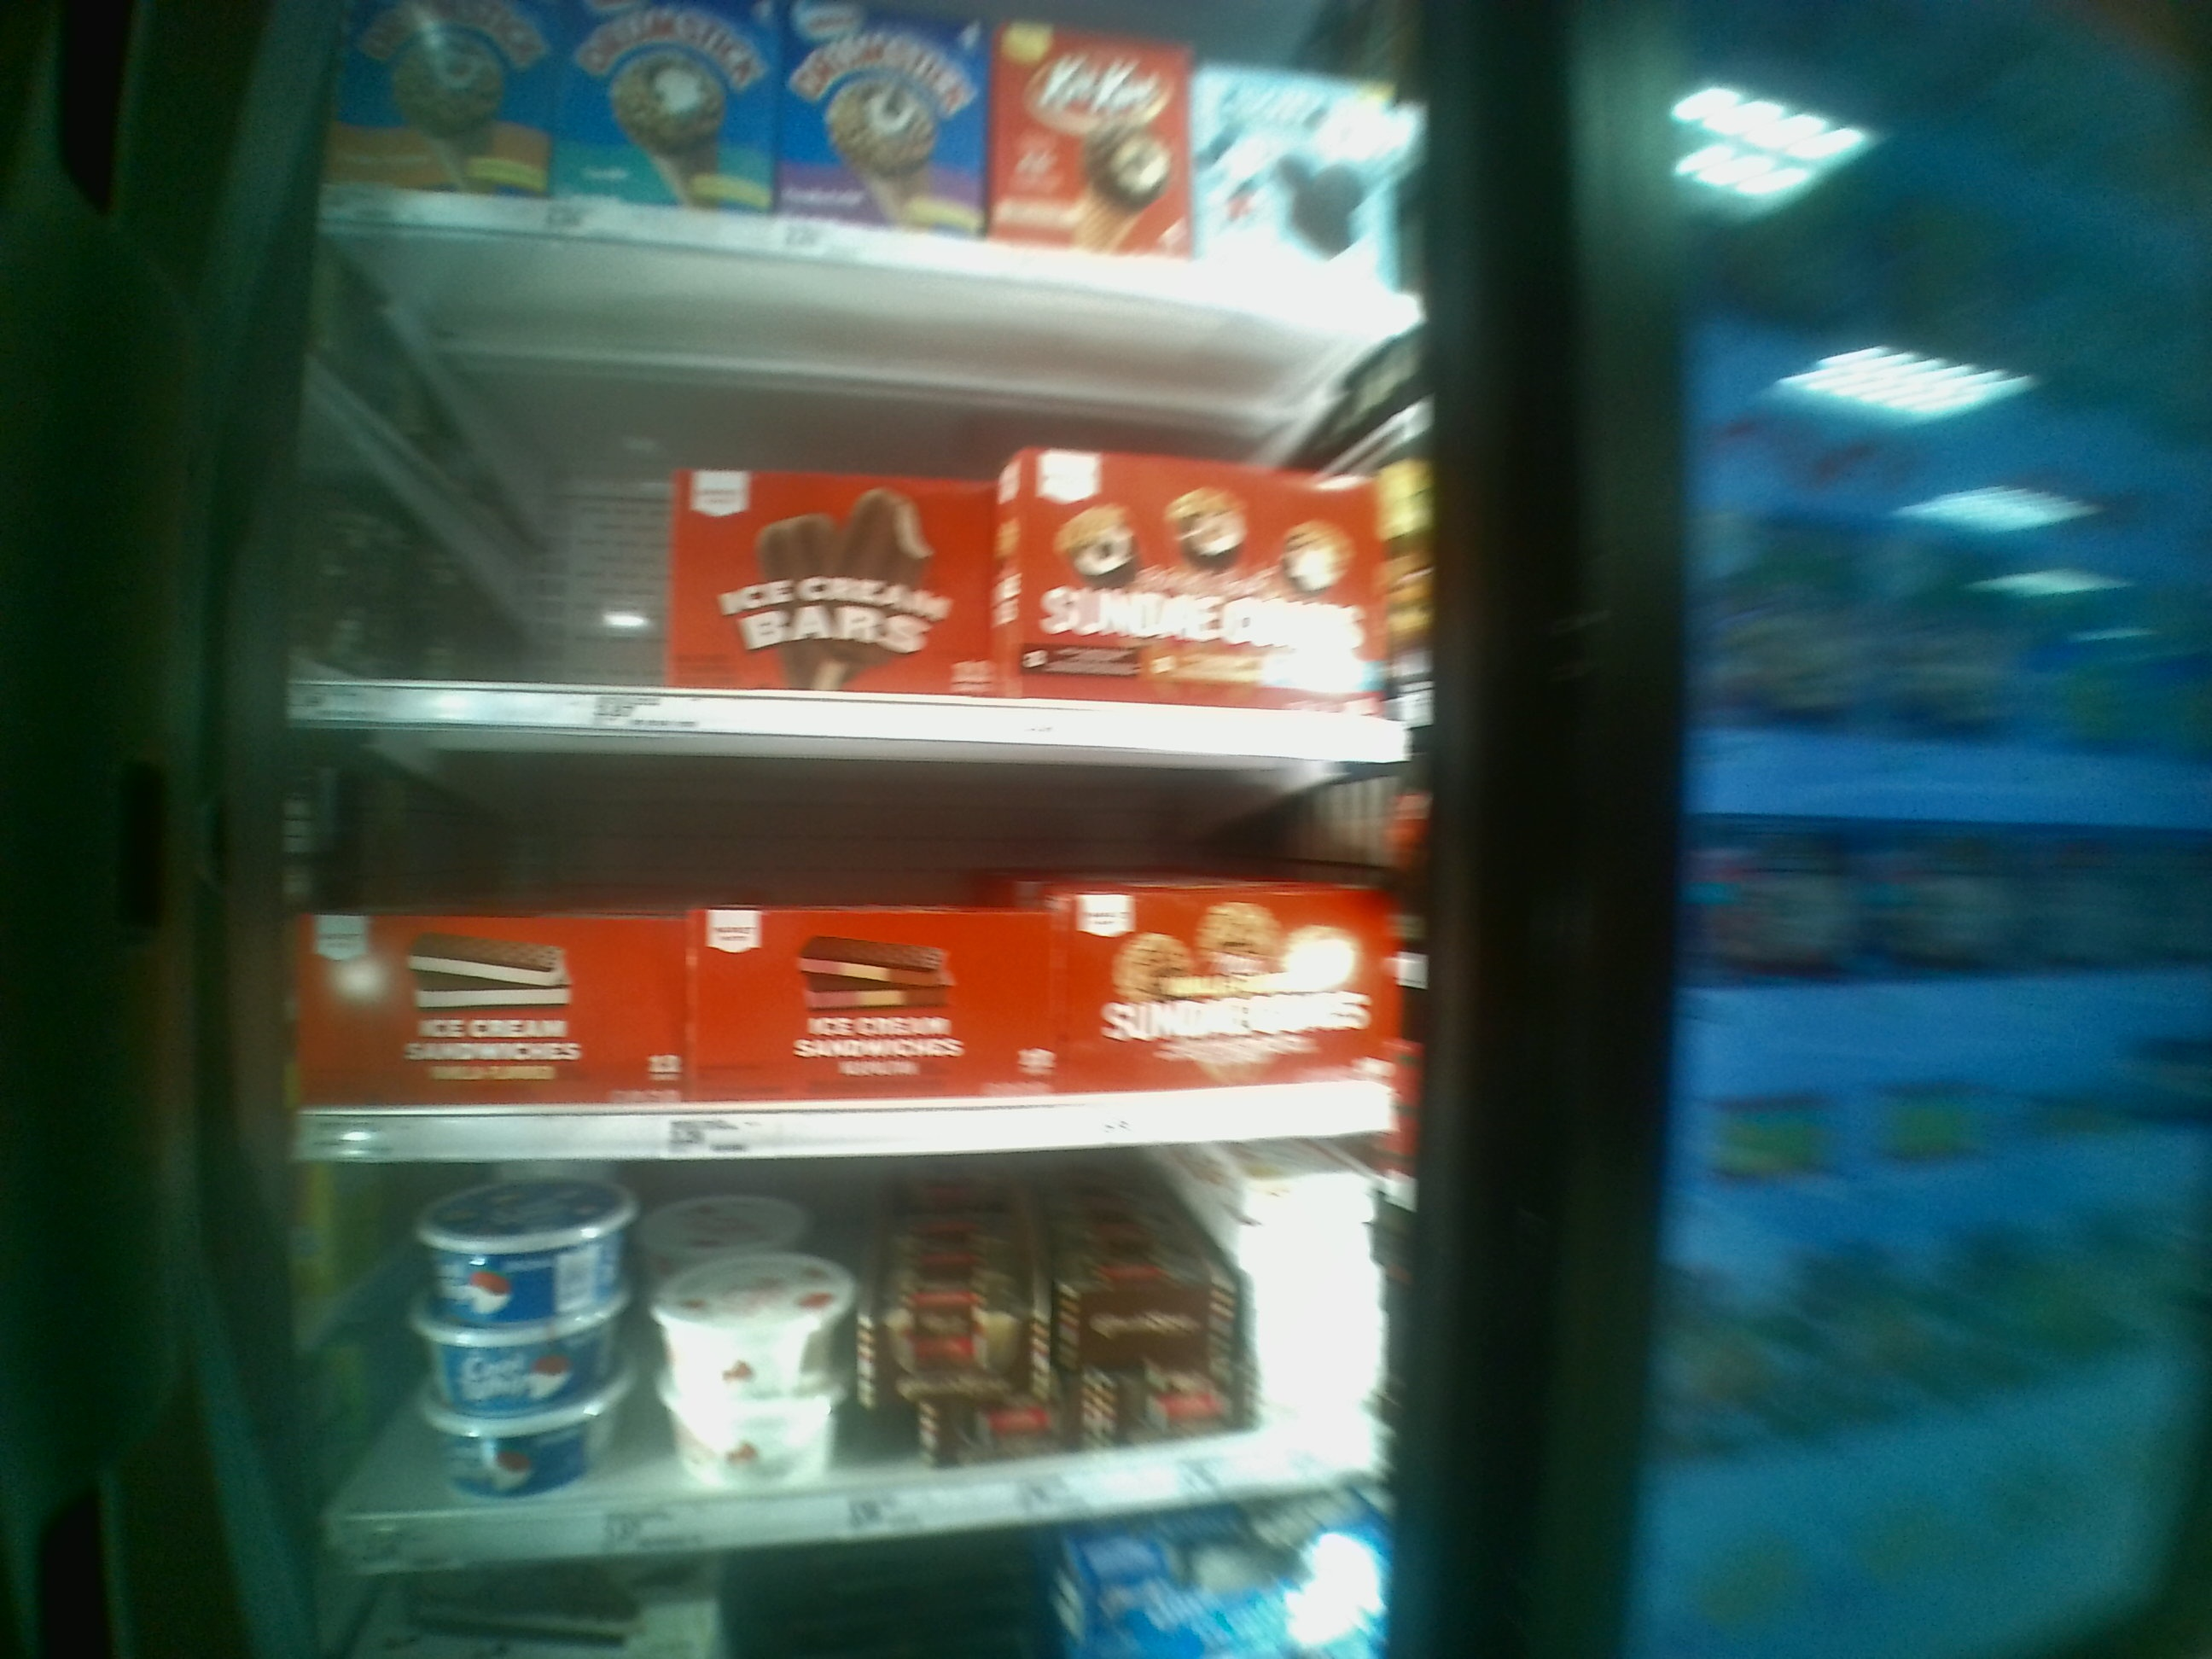frozen-food-shelf: (273, 329, 1440, 763), (273, 1166, 1439, 1577), (270, 763, 1453, 1168)
